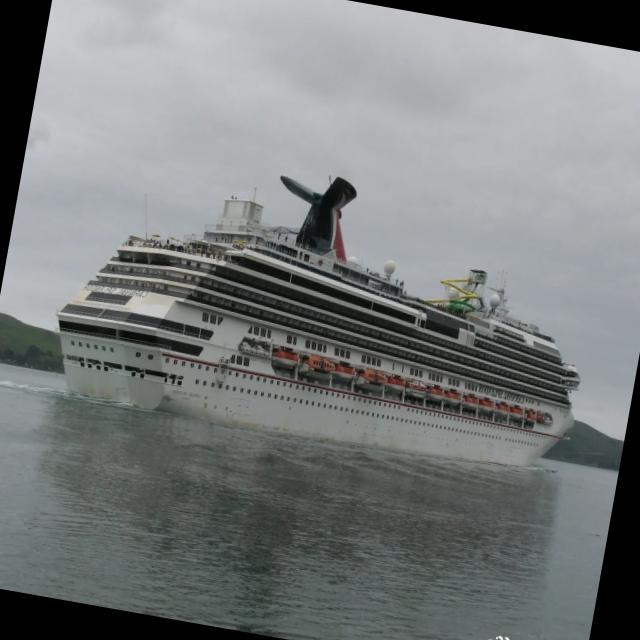Cruise: (56, 175, 580, 466)
